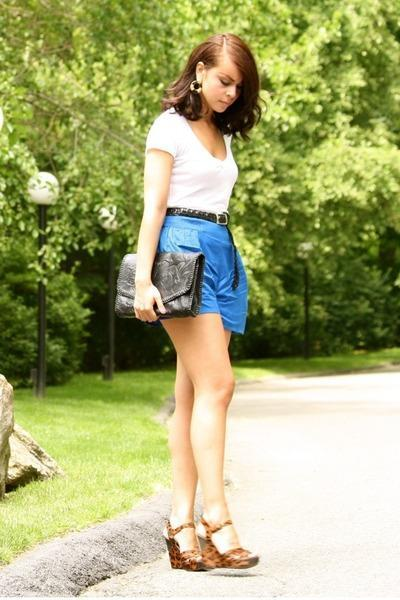bag: (115, 252, 209, 324)
shirt: (146, 108, 237, 218)
shoe: (166, 528, 258, 576)
shorts: (154, 215, 247, 343)
